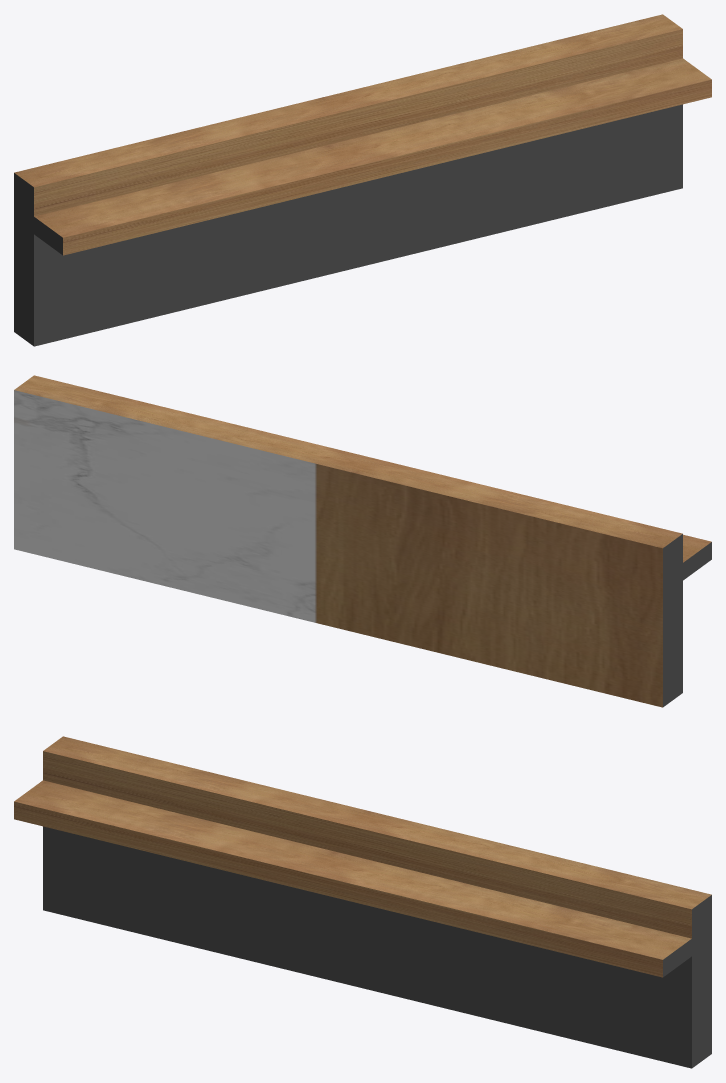
The model's file is window_table.fbx.
3 views of the same model, one above another, from view 1: azimuth 30°, elevation 25°; view 2: azimuth 150°, elevation 25°; view 3: azimuth 330°, elevation 25° (orthographic).
Visible parts, largest first — view 1: pCube28; view 2: pCube28; view 3: pCube28.
Boxes of the visible parts, x1=… form: pCube28: x1=14, y1=14, x2=711, y2=346; pCube28: x1=14, y1=375, x2=711, y2=707; pCube28: x1=14, y1=736, x2=711, y2=1068.
Size of the model in its own units: 0.0426 by 0.01 by 0.00559.
Materials: 2 (1 with a texture image).
